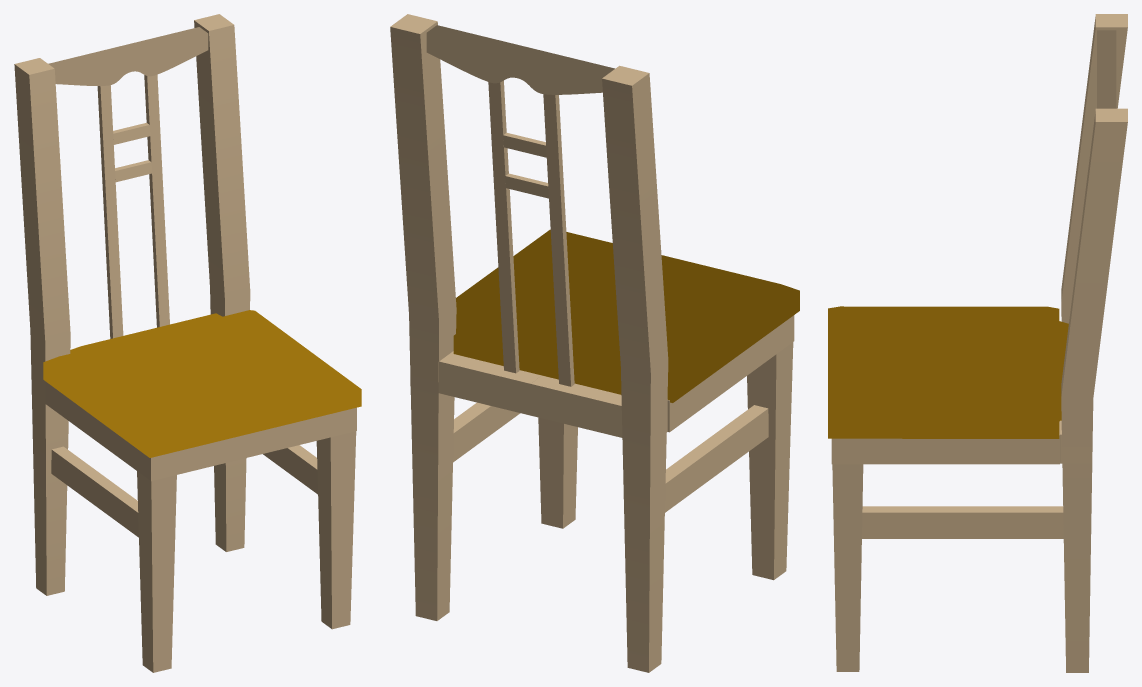
The model's file is chaiseOrange.glb.
3 views of the same model, side by side, from view 1: azimuth 30°, elevation 25°; view 2: azimuth 150°, elevation 25°; view 3: azimuth 270°, elevation 25° (orthographic). The views are drawn at different scales.
Parts seen in each view (by area): view 1: Node2, Node1; view 2: Node2, Node1; view 3: Node2, Node1.
Boxes of the visible parts, <box> form: Node2: <box>14,14,356,672</box>; Node1: <box>43,310,361,457</box>; Node2: <box>390,14,794,672</box>; Node1: <box>453,229,799,402</box>; Node2: <box>831,14,1127,672</box>; Node1: <box>828,306,1068,438</box>.
Size of the model in its own units: 41.23 by 95 by 46.7.
